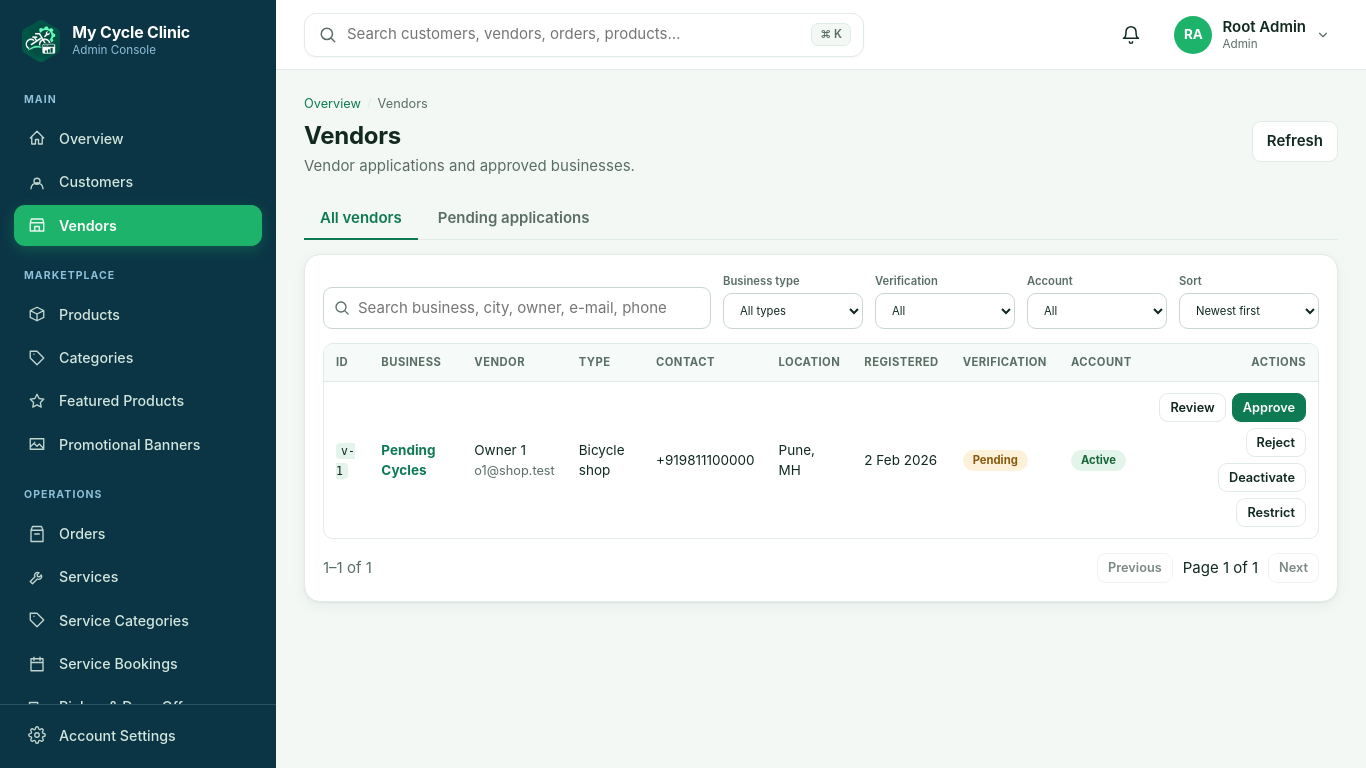
Test case: vendor decisions › approve: confirmation first, one request, the row changes only after the backend answers
Click the button "Approve" at (1269, 407), box x1=1232 y1=393 x2=1306 y2=422
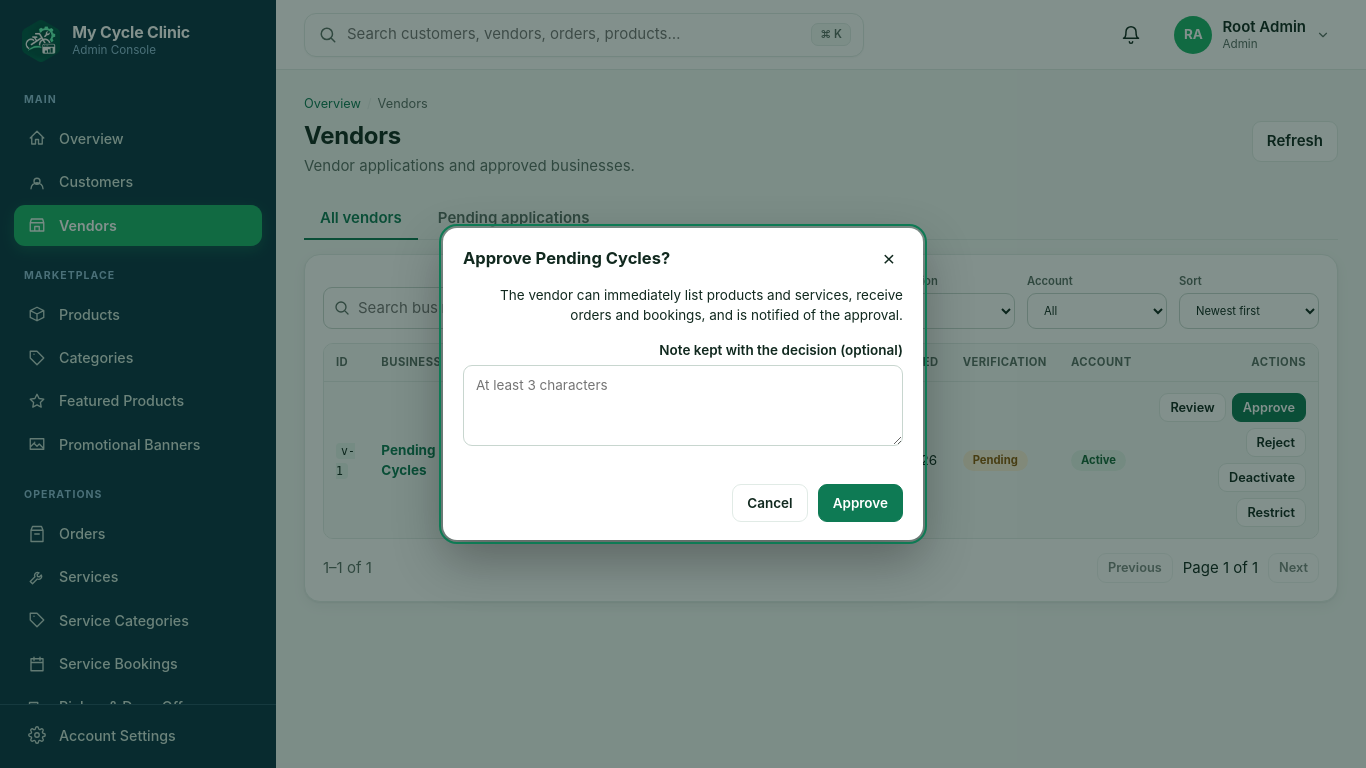
Double-click the button "Approve" below "Note kept with the decision (optional)" at (860, 503), box x1=818 y1=484 x2=903 y2=522
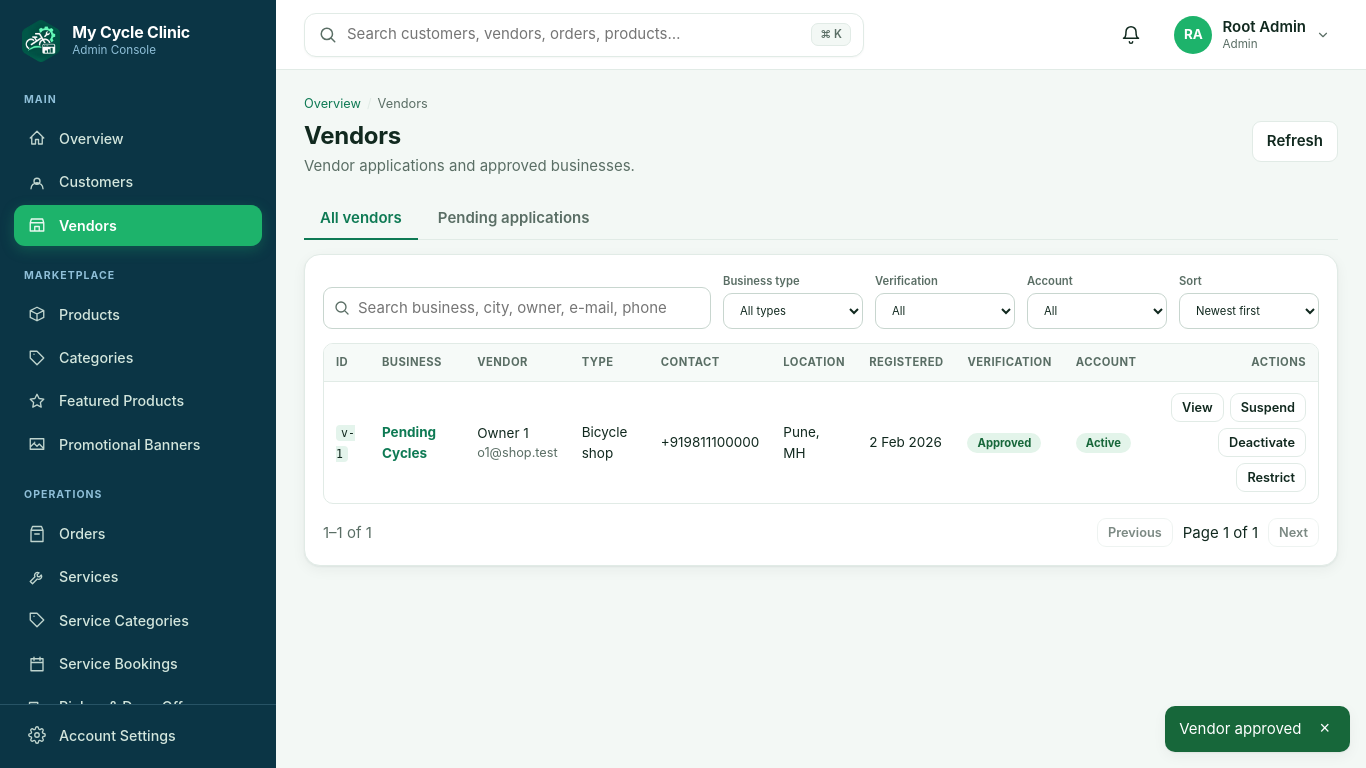
Expected: the dialog is gone
Expected: the text "Vendor approved" is shown, x1=1179 y1=718 x2=1302 y2=740
Expected: the text "Approved" is shown, x1=968 y1=433 x2=1041 y2=454
